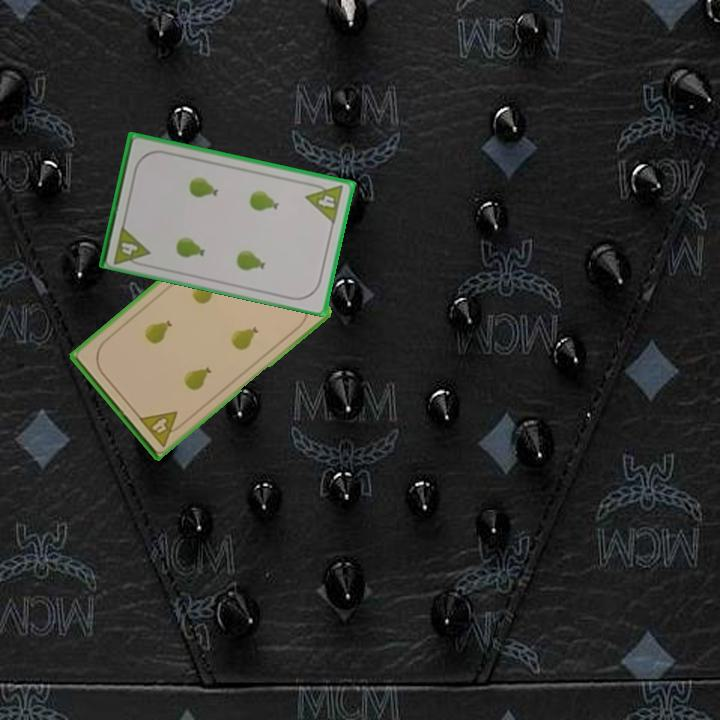4p: (135, 407, 188, 449), (302, 179, 347, 226), (110, 222, 152, 270)
